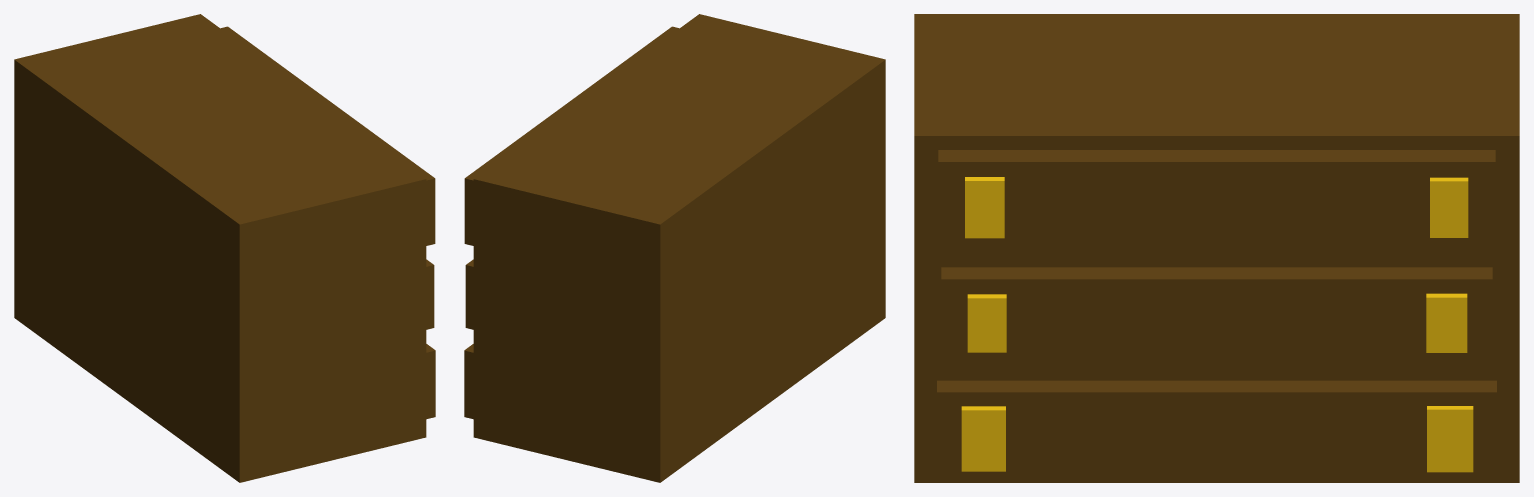
Rendered from lowpolydrawer.fbx.
The picture shows the model from 3 angles, left to right: view 1: azimuth 30°, elevation 25°; view 2: azimuth 150°, elevation 25°; view 3: azimuth 270°, elevation 25°; orthographic projection. The views are drawn at different scales.
Parts seen in each view (by area): view 1: Cube; view 2: Cube; view 3: Cube.
Part boxes in pixels (x1,y1,x2,y2): Cube: (14,14,435,482); Cube: (464,14,885,482); Cube: (914,14,1519,482).
Size of the model in its own units: 375 by 439 by 695.
